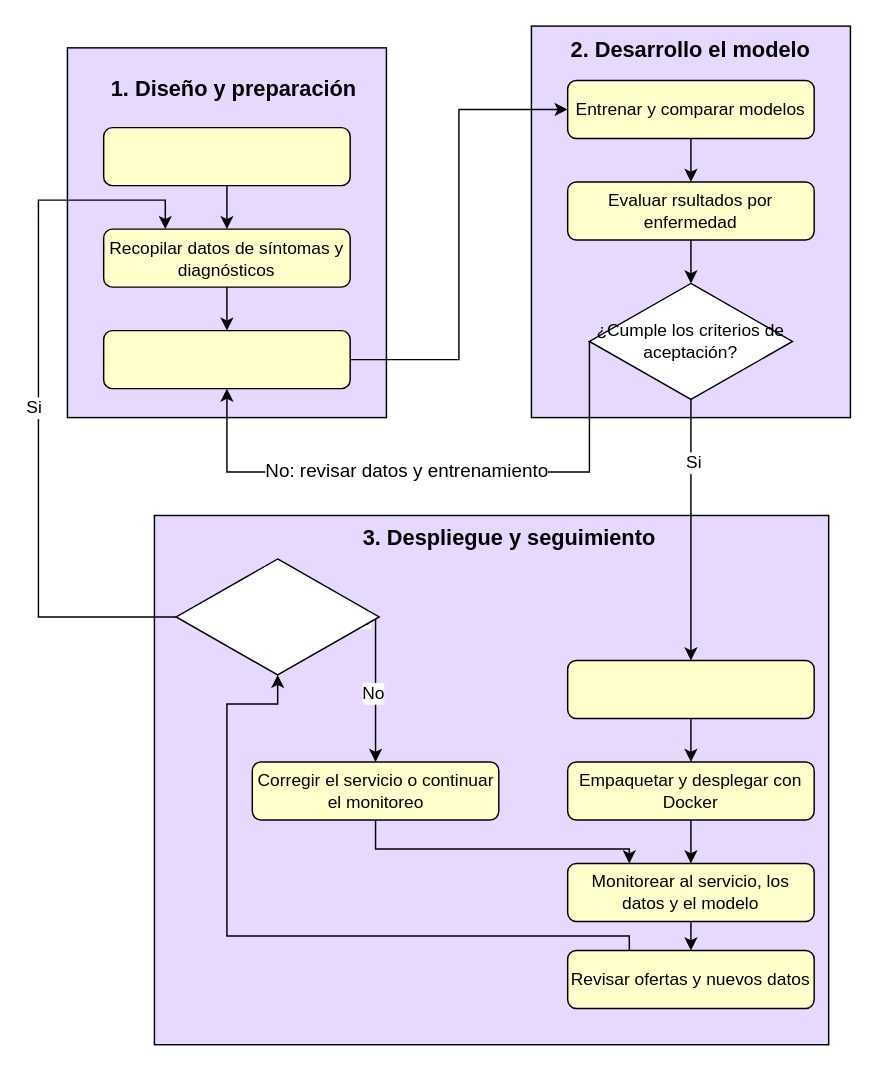
The diagram is 876 pixels wide and 1070 high, and some of its shapes have lost their labels. Each missing label, with the centre of its shape:
"Aprobar y registrar la versión" goes at point (690, 688).
"Definir objetivos, alcance y rstricciones" goes at point (226, 156).
"Validar, limpiar y separar los datos" goes at point (226, 359).
"¿Se justifica reentrenar el modelo?" goes at point (277, 616).
